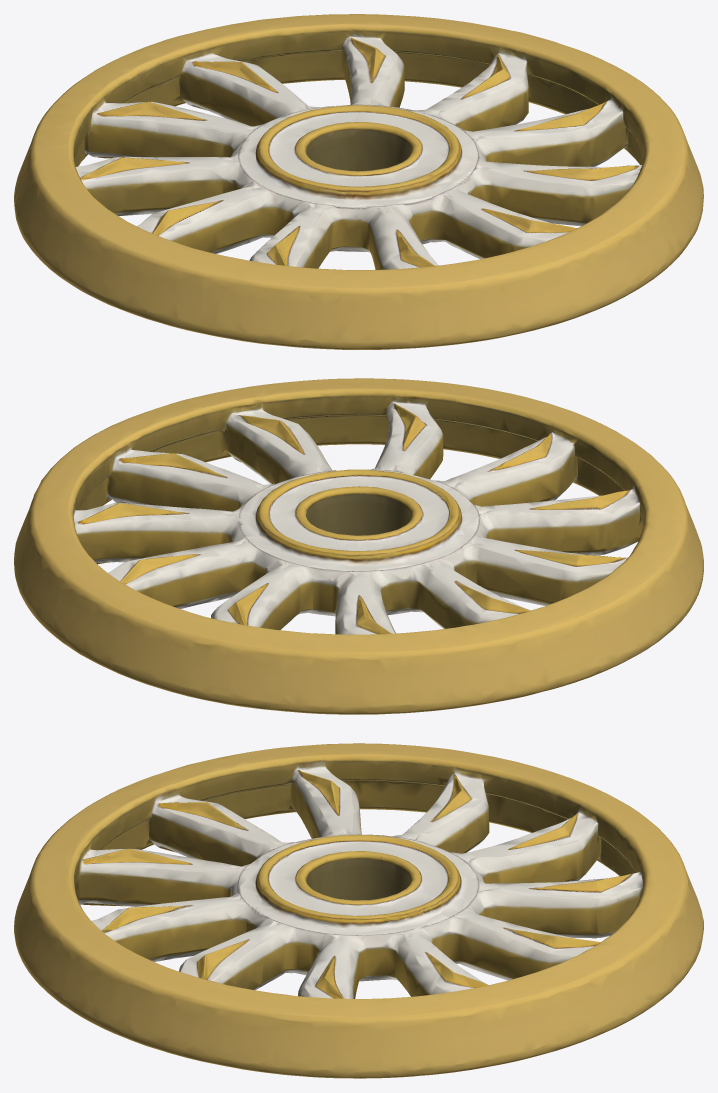
The model's file is blade_halo.glb.
3 renders of one model, top to bottom at view 1: azimuth 30°, elevation 25°; view 2: azimuth 150°, elevation 25°; view 3: azimuth 270°, elevation 25°, orthographic.
Parts seen in each view (by area): view 1: tripo_node_99311397-9fea-4b60-8a1a-d08df6e2e20a; view 2: tripo_node_99311397-9fea-4b60-8a1a-d08df6e2e20a; view 3: tripo_node_99311397-9fea-4b60-8a1a-d08df6e2e20a.
Part boxes in pixels (x1,y1,x2,y2): tripo_node_99311397-9fea-4b60-8a1a-d08df6e2e20a: (14,14,703,349); tripo_node_99311397-9fea-4b60-8a1a-d08df6e2e20a: (14,378,703,714); tripo_node_99311397-9fea-4b60-8a1a-d08df6e2e20a: (14,743,703,1078).
Size of the model in its own units: 0.999 by 0.1007 by 1.
Materials: 1 (1 with a texture image).
